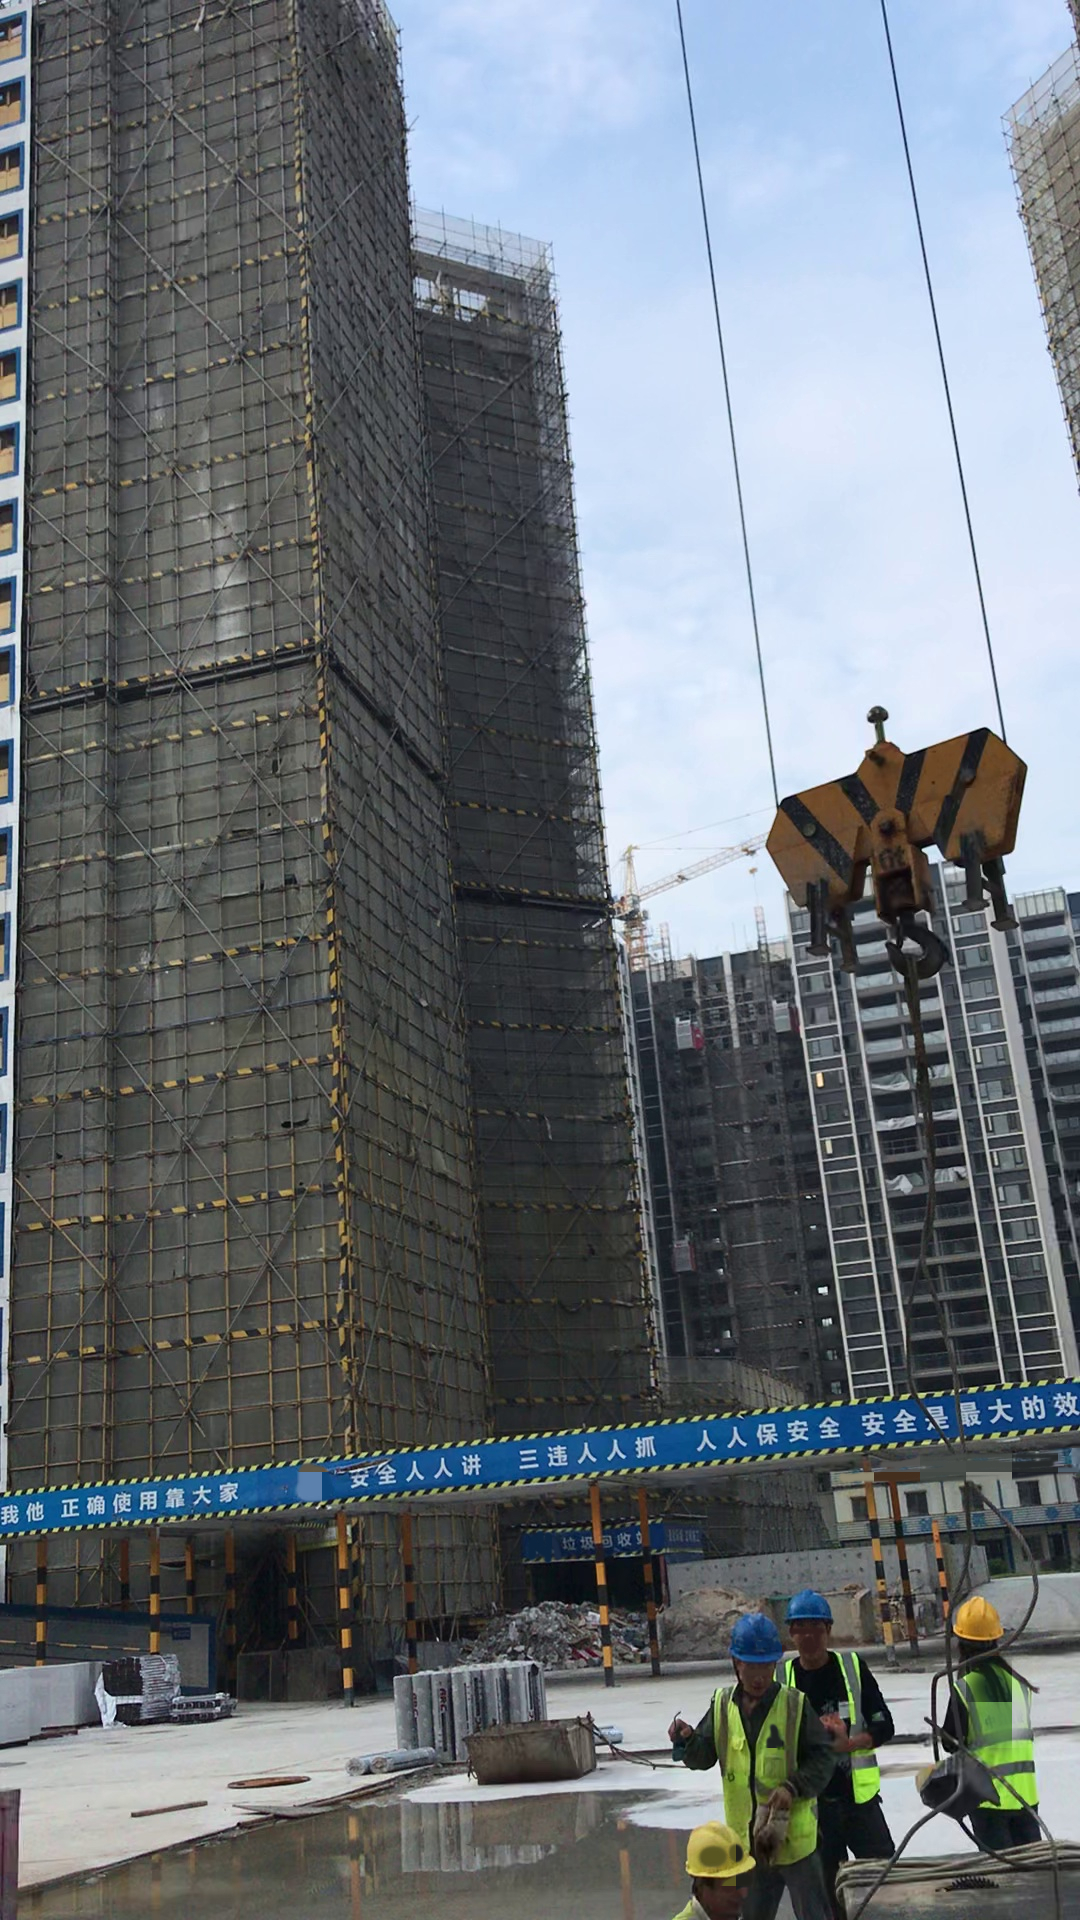brick: (7, 1651, 96, 1753)
helmet: (686, 1821, 757, 1880), (945, 1591, 1010, 1650), (726, 1607, 778, 1663), (787, 1586, 836, 1625)
hook: (755, 718, 1046, 980)
hopper: (461, 1717, 607, 1786)
person: (672, 1607, 828, 1920), (778, 1581, 901, 1866), (922, 1600, 1054, 1851), (675, 1819, 758, 1920)
slogan: (11, 1402, 1080, 1531)
vest: (710, 1671, 819, 1859), (945, 1666, 1048, 1822), (790, 1645, 884, 1804)
